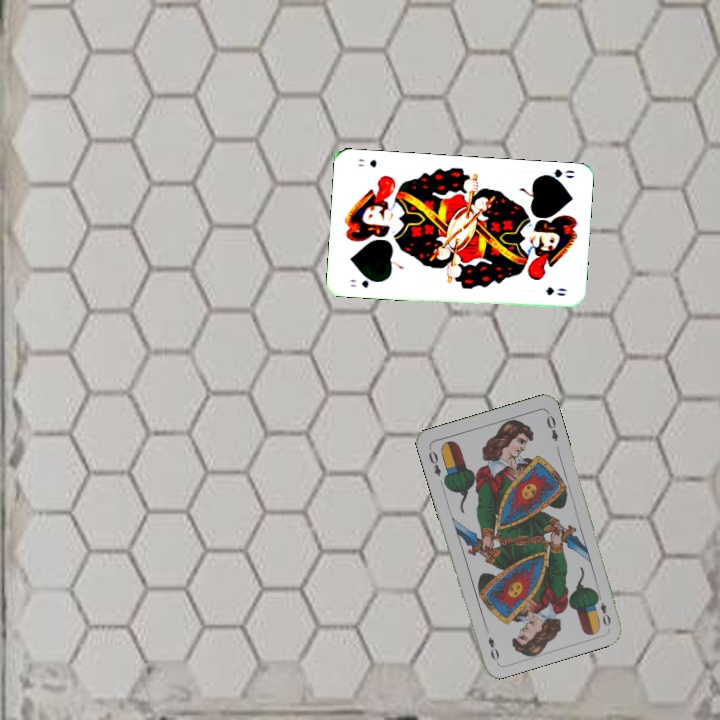EO: (593, 589, 613, 629), (424, 444, 443, 479)
GO: (537, 165, 577, 185), (346, 274, 382, 290)
